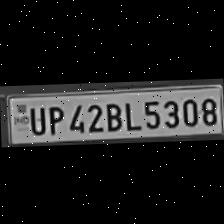0: (178, 94, 198, 125)
2: (84, 99, 102, 132)
3: (160, 95, 180, 127)
4: (64, 100, 86, 134)
5: (138, 95, 160, 128)
8: (197, 92, 217, 124)
B: (102, 97, 122, 130)
L: (121, 97, 139, 130)
P: (42, 102, 64, 134)
U: (26, 102, 44, 134)
